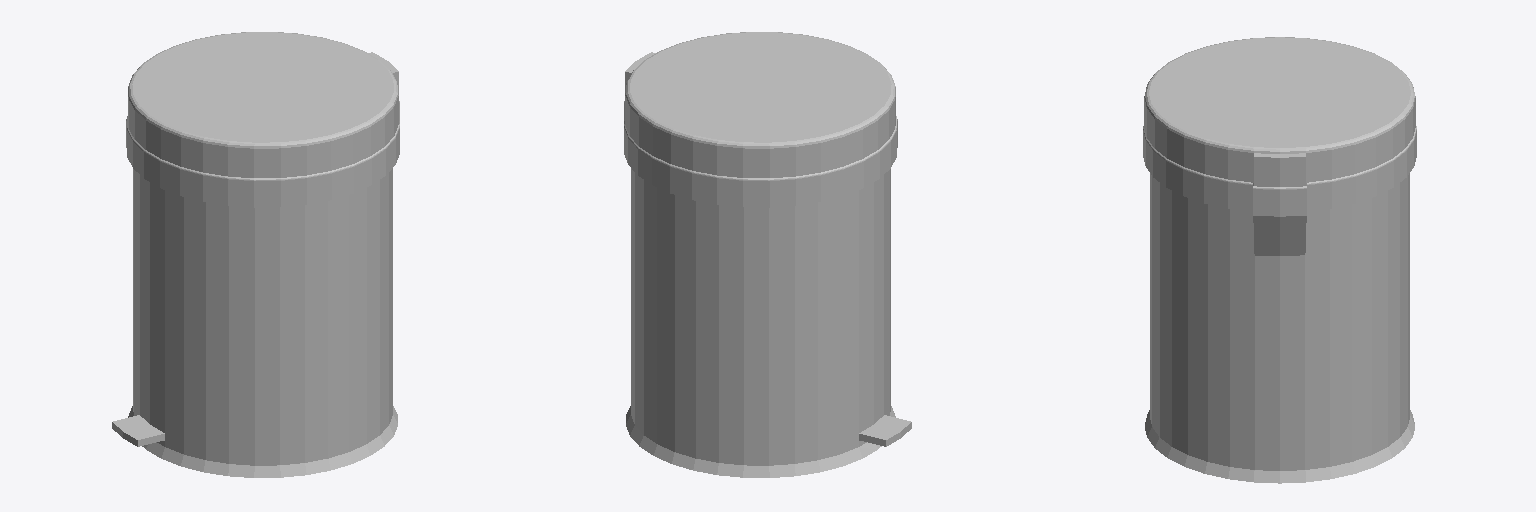
File: TrashCan.obj
3 renders of one model, left to right at view 1: azimuth 30°, elevation 25°; view 2: azimuth 150°, elevation 25°; view 3: azimuth 270°, elevation 25°, orthographic.
Parts seen in each view (by area): view 1: Cylinder.006; view 2: Cylinder.006; view 3: Cylinder.006.
Part boxes in pixels (bbox=[...]): Cylinder.006: bbox=[112, 32, 399, 477]; Cylinder.006: bbox=[624, 32, 911, 477]; Cylinder.006: bbox=[1143, 37, 1416, 483].
Bounding box in the file's own units: 1.44 × 1.72 × 1.28.